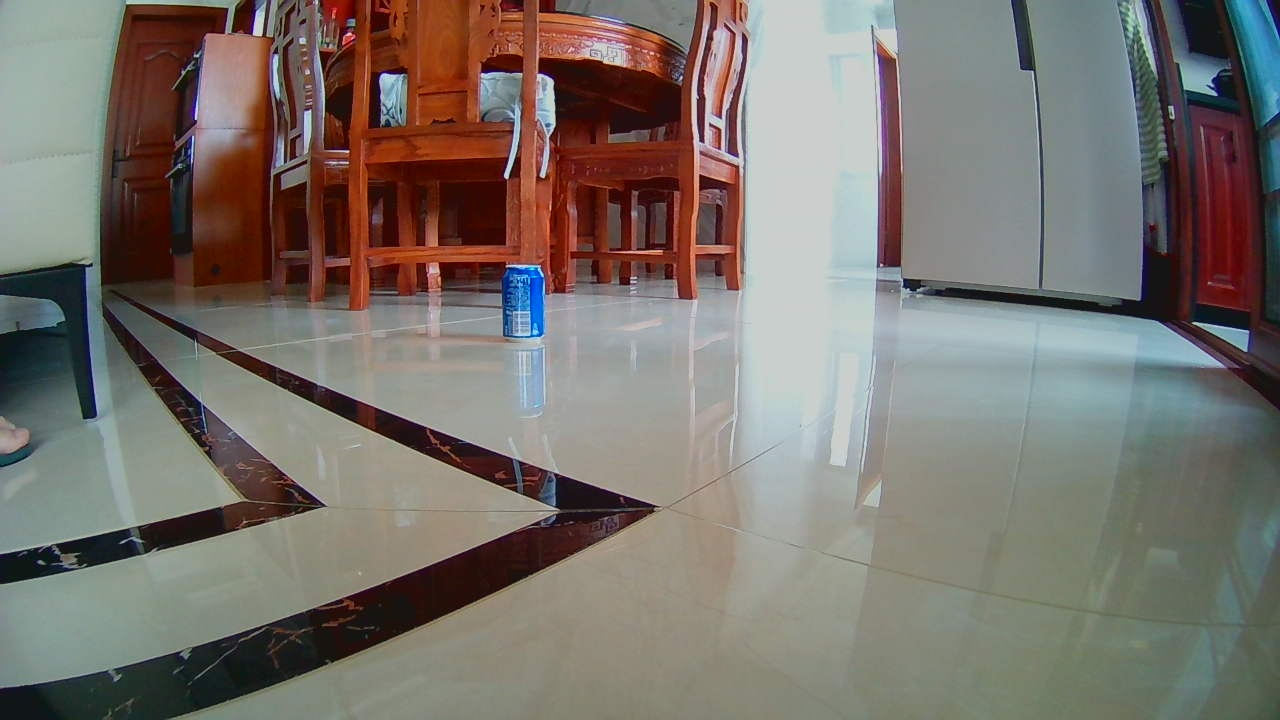pessi: (500, 256, 542, 338)
